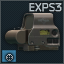EOTech EXPS3 holographic sight: (0, 0, 64, 64)
